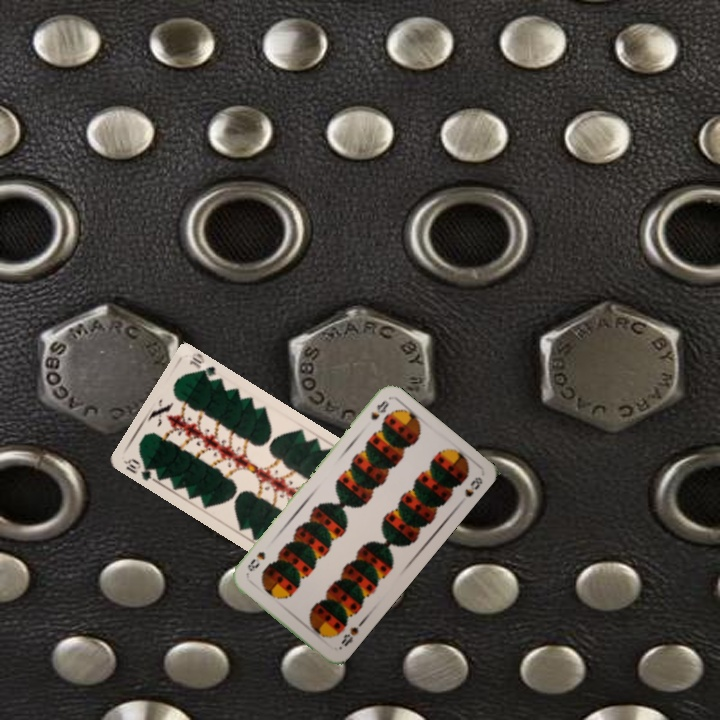G10: (122, 454, 161, 484)
S8: (337, 619, 365, 649), (367, 396, 391, 423)
